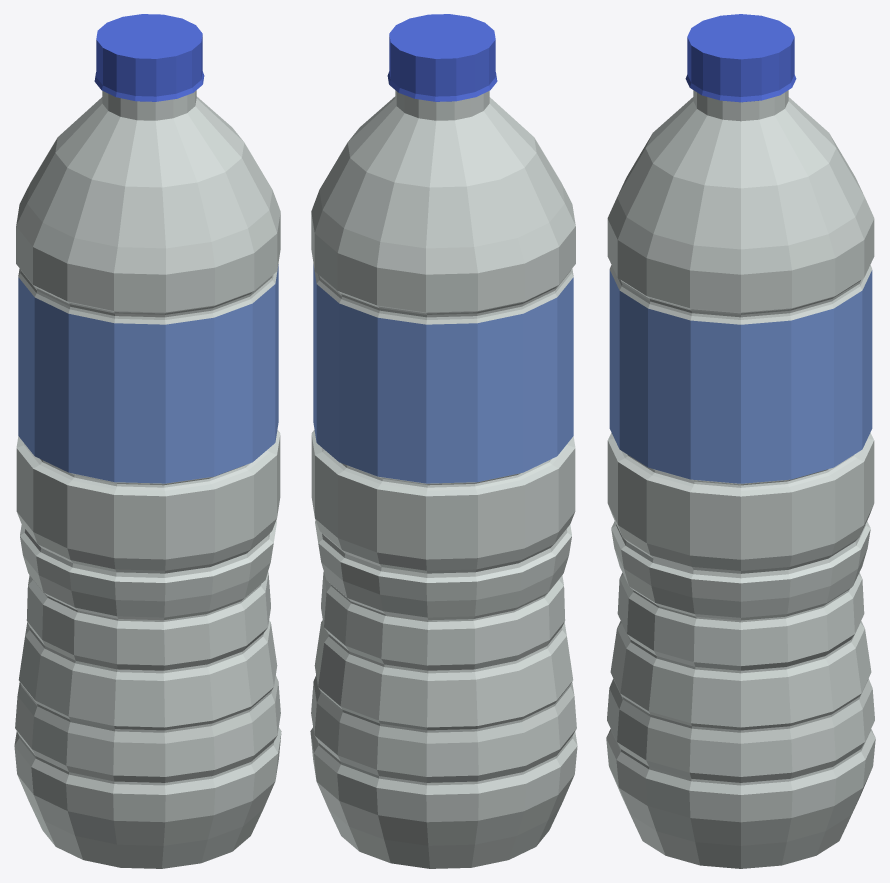
The model's file is waterBottle.fbx.
The picture shows the model from 3 angles, left to right: view 1: azimuth 30°, elevation 25°; view 2: azimuth 150°, elevation 25°; view 3: azimuth 270°, elevation 25°; orthographic projection.
Parts seen in each view (by area): view 1: Bottle, Wrap, Cap; view 2: Bottle, Wrap, Cap; view 3: Bottle, Wrap, Cap.
Part boxes in pixels (bbox=[...]): Bottle: bbox=[14, 90, 281, 868]; Wrap: bbox=[18, 264, 278, 483]; Cap: bbox=[94, 14, 204, 101]; Bottle: bbox=[310, 90, 577, 868]; Wrap: bbox=[313, 264, 573, 483]; Cap: bbox=[387, 14, 497, 101]; Bottle: bbox=[606, 90, 875, 868]; Wrap: bbox=[609, 270, 872, 483]; Cap: bbox=[685, 14, 796, 102].
Bounding box in the file's own units: 140 × 450 × 140.
